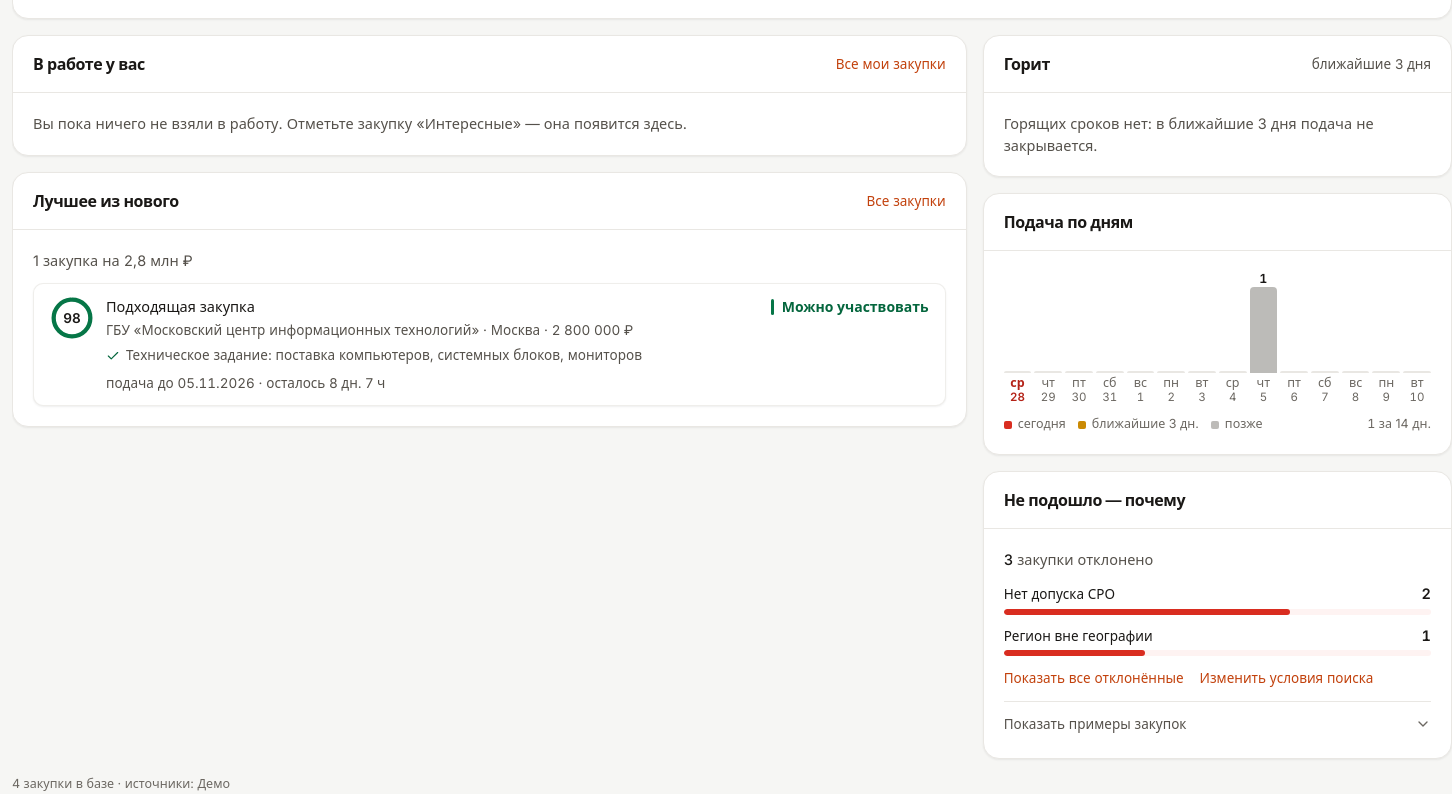
Test case: DashboardView — экран «Сегодня» › блок «Не подошло» показывает причины столбиками, а примеры закупок — по клику
(page scrolled)
Expected: the text "Отклонённая первая" is not shown
Click the button "Показать примеры закупок" at point(1095, 724), box [1004,710,1431,738]
(page scrolled)
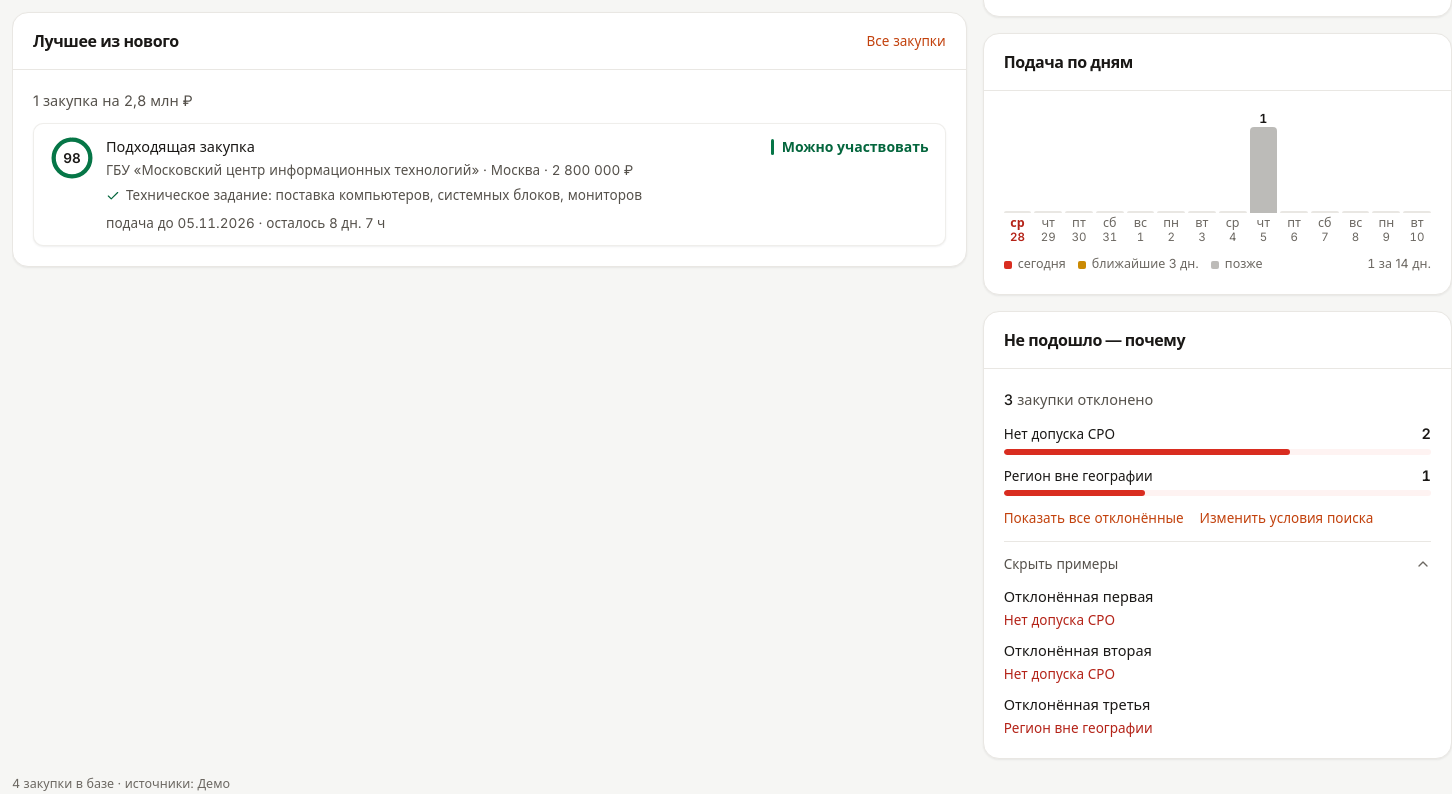
Expected: the link "Отклонённая первая" is shown, [1004,588,1154,605]
Expected: the link "Отклонённая третья" is shown, [1004,696,1150,713]
